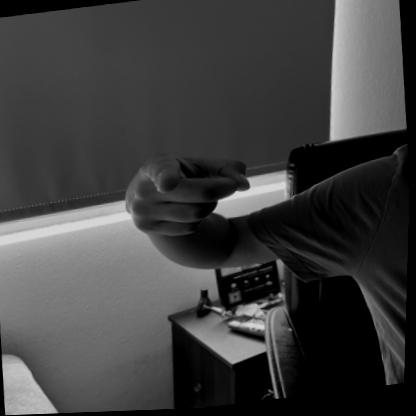X: (117, 142, 259, 248)
